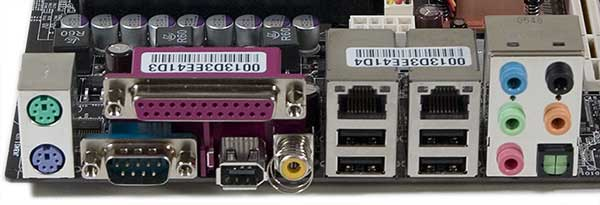Ethernet: (410, 82, 480, 125), (329, 82, 396, 125)
